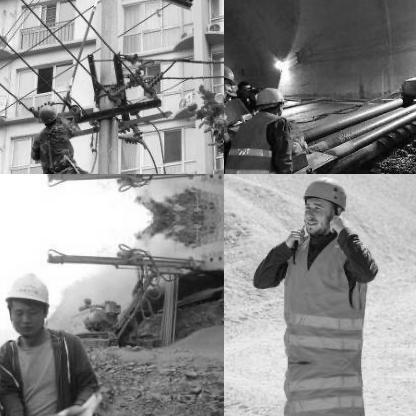Helmet: (0, 264, 55, 339), (296, 174, 353, 238), (252, 85, 284, 117), (34, 103, 60, 127), (224, 60, 236, 98)
